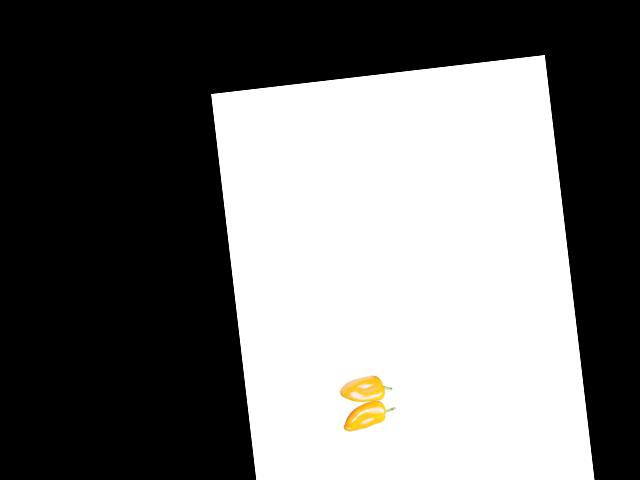bell_pepper: (326, 367, 394, 407)
